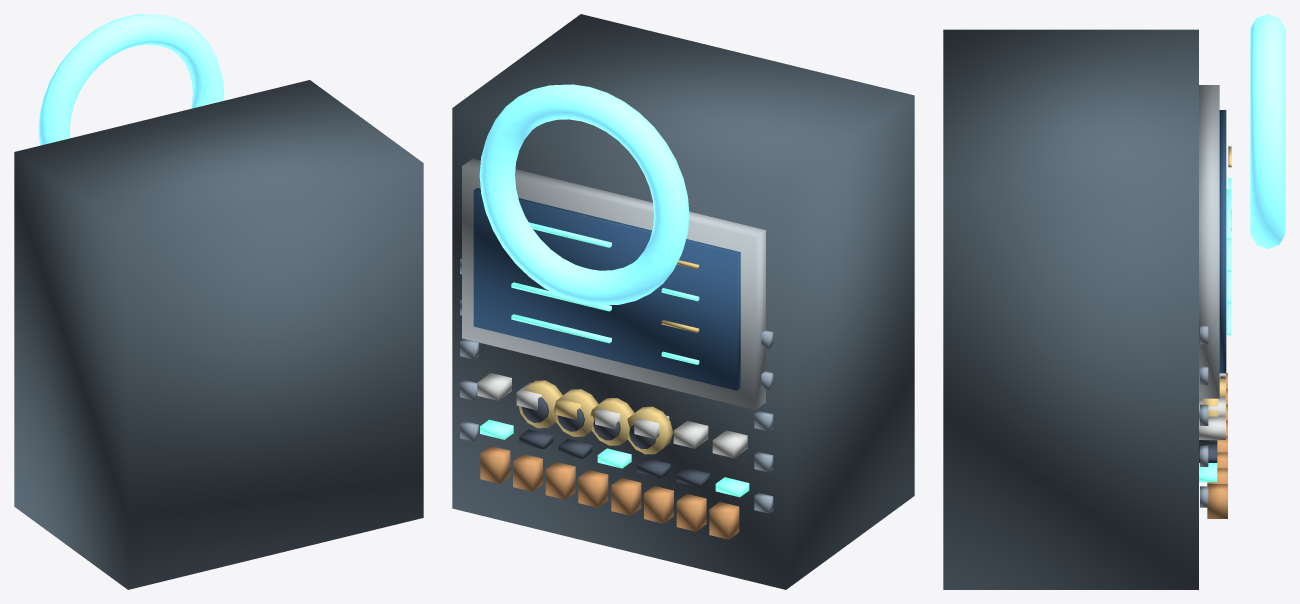
Rendered from L84_30_TriaxialMagnetometer_Fitted.fbx.
3 views of the same model, side by side, from view 1: azimuth 30°, elevation 25°; view 2: azimuth 150°, elevation 25°; view 3: azimuth 270°, elevation 25° (orthographic). The views are drawn at different scales.
Parts seen in each view (by area): view 1: L84_TriaxialMagnetometer_Static__tint1C2933, L84_TriaxialMagnetometer_Static__tint38CCFC; view 2: L84_TriaxialMagnetometer_Static__tint1C2933, L84_TriaxialMagnetometer_Static__tint0B214A, L84_TriaxialMagnetometer_Static__tint38CCFC, L84_TriaxialMagnetometer_Static__tint91A3AD, L84_TriaxialMagnetometer_Static__tintCC6629, L84_TriaxialMagnetometer_Static__tintF2B547, L84_TriaxialMagnetometer_Static__tint2BF0A8, L84_TriaxialMagnetometer_Static__tintCCD4CF, L84_TriaxialMagnetometer_Static__tint131B26, L84_TriaxialMagnetometer_Static__tint59738F; view 3: L84_TriaxialMagnetometer_Static__tint1C2933, L84_TriaxialMagnetometer_Static__tint38CCFC, L84_TriaxialMagnetometer_Static__tint91A3AD, L84_TriaxialMagnetometer_Static__tint0B214A, L84_TriaxialMagnetometer_Static__tintCC6629, L84_TriaxialMagnetometer_Static__tint2BF0A8, L84_TriaxialMagnetometer_Static__tint59738F, L84_TriaxialMagnetometer_Static__tintCCD4CF, L84_TriaxialMagnetometer_Static__tintF2B547.
Part boxes in pixels (x1,y1,x2,y2): L84_TriaxialMagnetometer_Static__tint1C2933: (14,80,423,589); L84_TriaxialMagnetometer_Static__tint38CCFC: (38,14,224,145); L84_TriaxialMagnetometer_Static__tint1C2933: (452,14,914,589); L84_TriaxialMagnetometer_Static__tint0B214A: (473,188,740,390); L84_TriaxialMagnetometer_Static__tint38CCFC: (479,84,689,305); L84_TriaxialMagnetometer_Static__tint91A3AD: (462,158,765,409); L84_TriaxialMagnetometer_Static__tintCC6629: (480,446,739,539); L84_TriaxialMagnetometer_Static__tintF2B547: (518,260,699,454); L84_TriaxialMagnetometer_Static__tint2BF0A8: (480,222,749,497); L84_TriaxialMagnetometer_Static__tintCCD4CF: (477,373,747,458); L84_TriaxialMagnetometer_Static__tint131B26: (519,397,709,487); L84_TriaxialMagnetometer_Static__tint59738F: (460,258,773,513); L84_TriaxialMagnetometer_Static__tint1C2933: (943,29,1198,589); L84_TriaxialMagnetometer_Static__tint38CCFC: (1250,14,1285,248); L84_TriaxialMagnetometer_Static__tint91A3AD: (1199,85,1219,398); L84_TriaxialMagnetometer_Static__tint0B214A: (1219,110,1226,373); L84_TriaxialMagnetometer_Static__tintCC6629: (1207,373,1227,518); L84_TriaxialMagnetometer_Static__tint2BF0A8: (1199,178,1231,482); L84_TriaxialMagnetometer_Static__tint59738F: (1200,326,1208,507); L84_TriaxialMagnetometer_Static__tintCCD4CF: (1199,373,1225,439); L84_TriaxialMagnetometer_Static__tintF2B547: (1203,146,1231,416).
Bounding box in the file's own units: 10.28 × 14.34 × 9.18.
